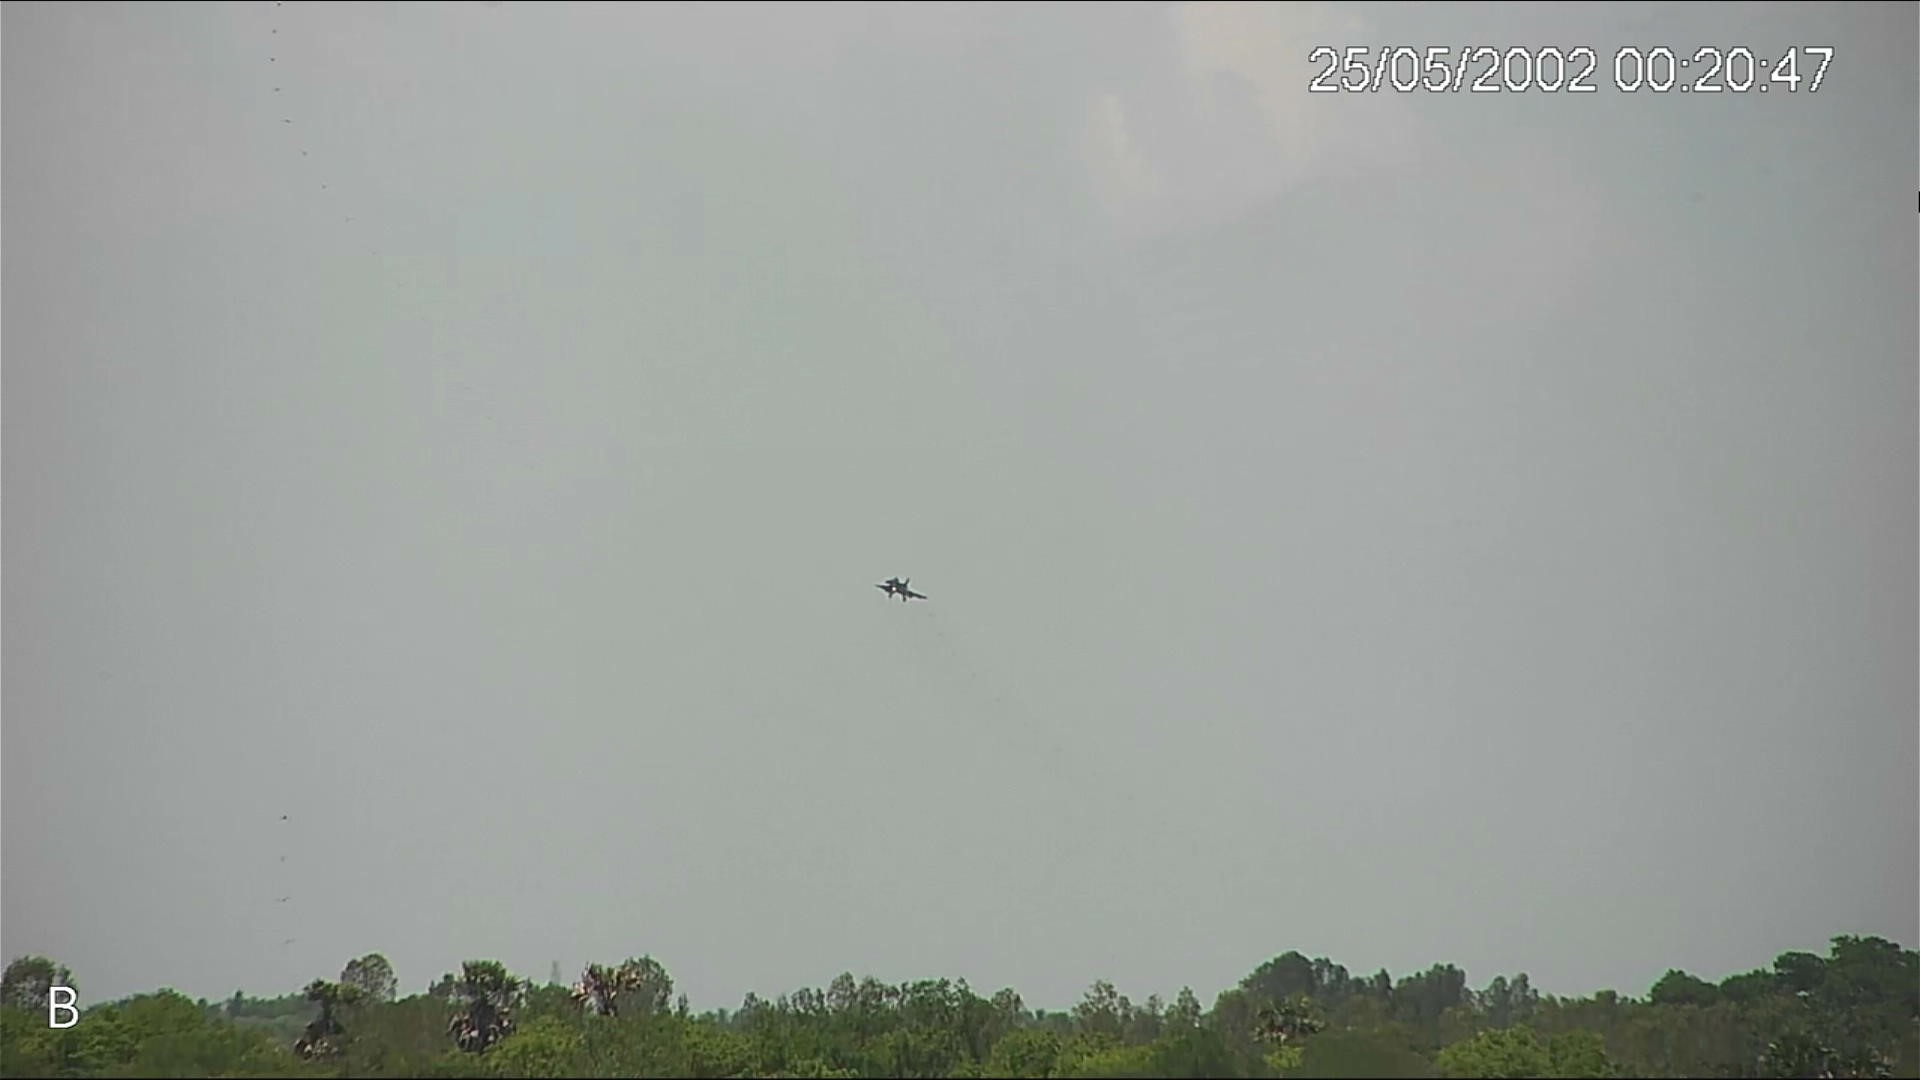SU_30: (873, 574, 932, 609)
